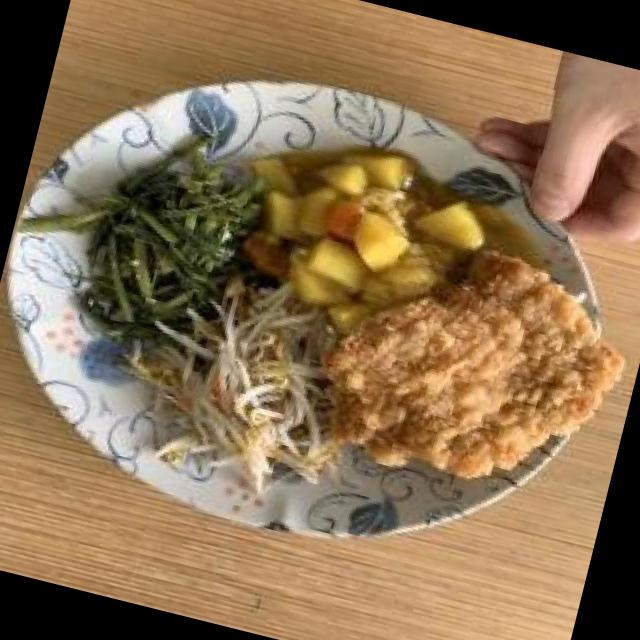curry: (252, 142, 470, 300)
fried_chicken: (350, 259, 598, 489)
mung_bean_sprouts: (163, 290, 342, 469)
water_spinach: (78, 150, 238, 322)
